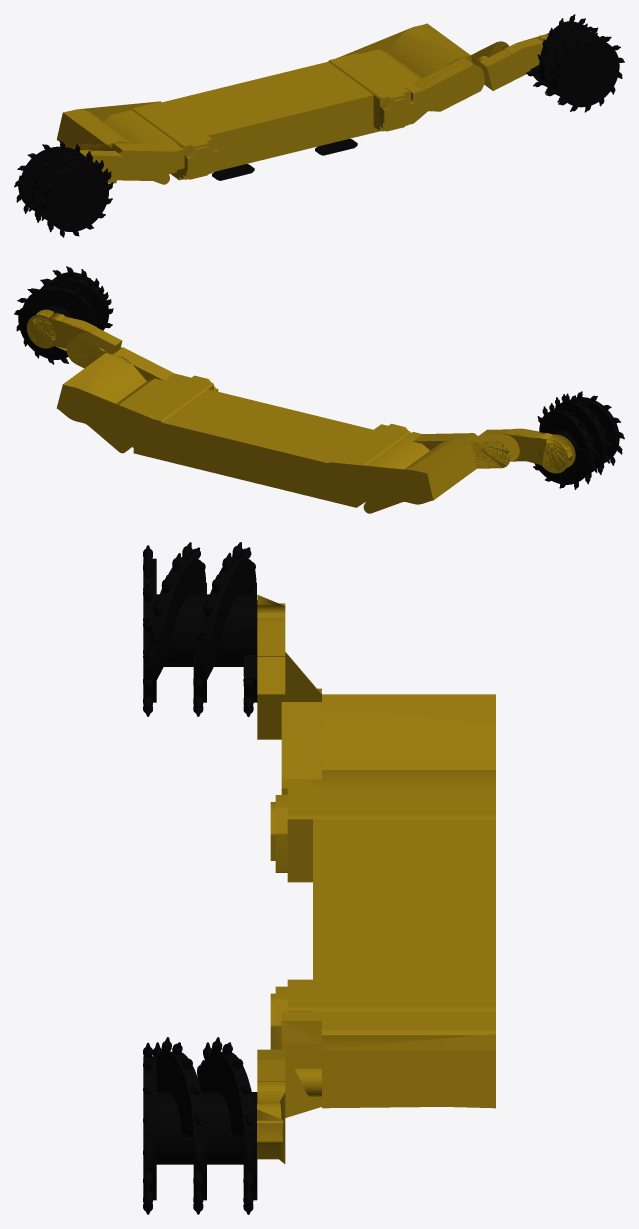
File: Combain.FBX
3 renders of one model, top to bottom at view 1: azimuth 30°, elevation 25°; view 2: azimuth 150°, elevation 25°; view 3: azimuth 270°, elevation 25°, orthographic. The views are drawn at different scales.
Parts seen in each view (by area): view 1: 3dSolid, Object044, Surface (×2), Object043; view 2: 3dSolid, Object044, Surface (×2); view 3: 3dSolid, Object044, Surface (×2).
Part boxes in pixels (left/top/right/bottom): 3dSolid: left=56, top=23, right=549, bottom=184; Object044: left=162, top=62, right=373, bottom=171; Surface (×2): left=14, top=14, right=624, bottom=237; Object043: left=212, top=138, right=357, bottom=180; 3dSolid: left=27, top=309, right=575, bottom=513; Object044: left=162, top=389, right=373, bottom=500; Surface (×2): left=14, top=266, right=624, bottom=489; 3dSolid: left=257, top=594, right=495, bottom=1163; Object044: left=313, top=819, right=495, bottom=979; Surface (×2): left=143, top=542, right=257, bottom=1214.
Size of the model in its own units: 24877 by 4183 by 6489.
